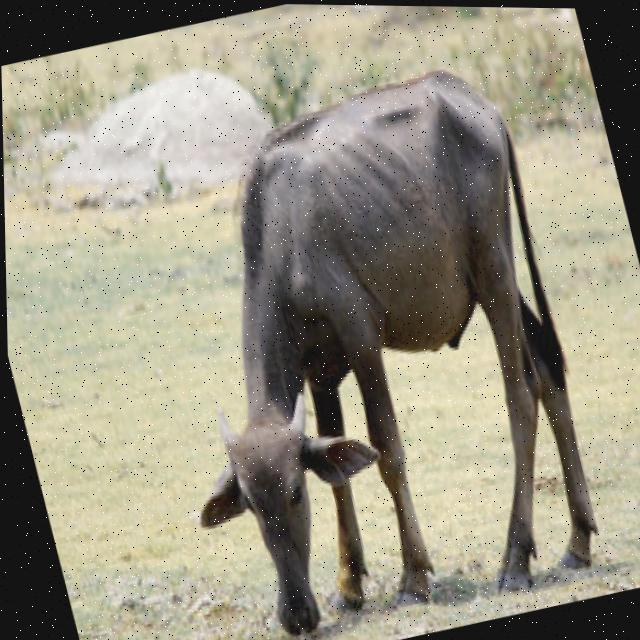Buffalo: (97, 43, 626, 640)
